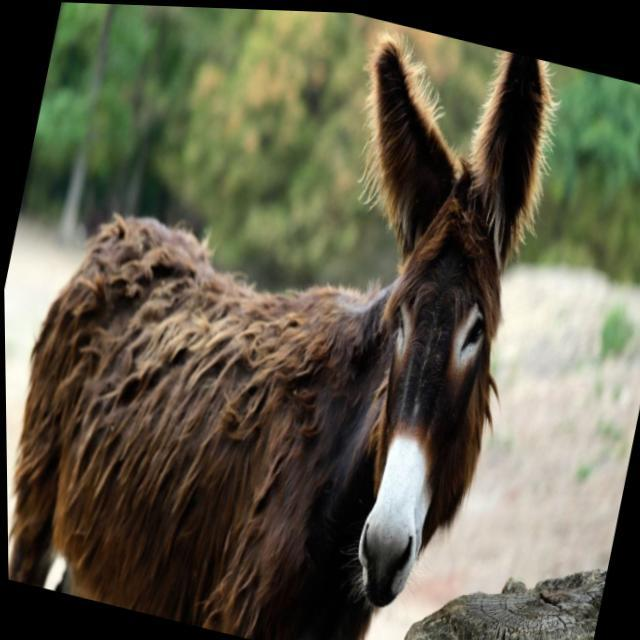Donkey: (75, 2, 578, 622)
